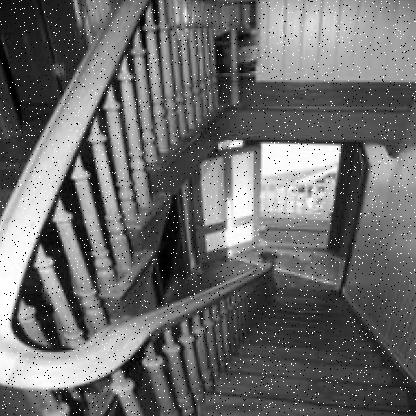stair_down: (226, 320, 404, 412)
